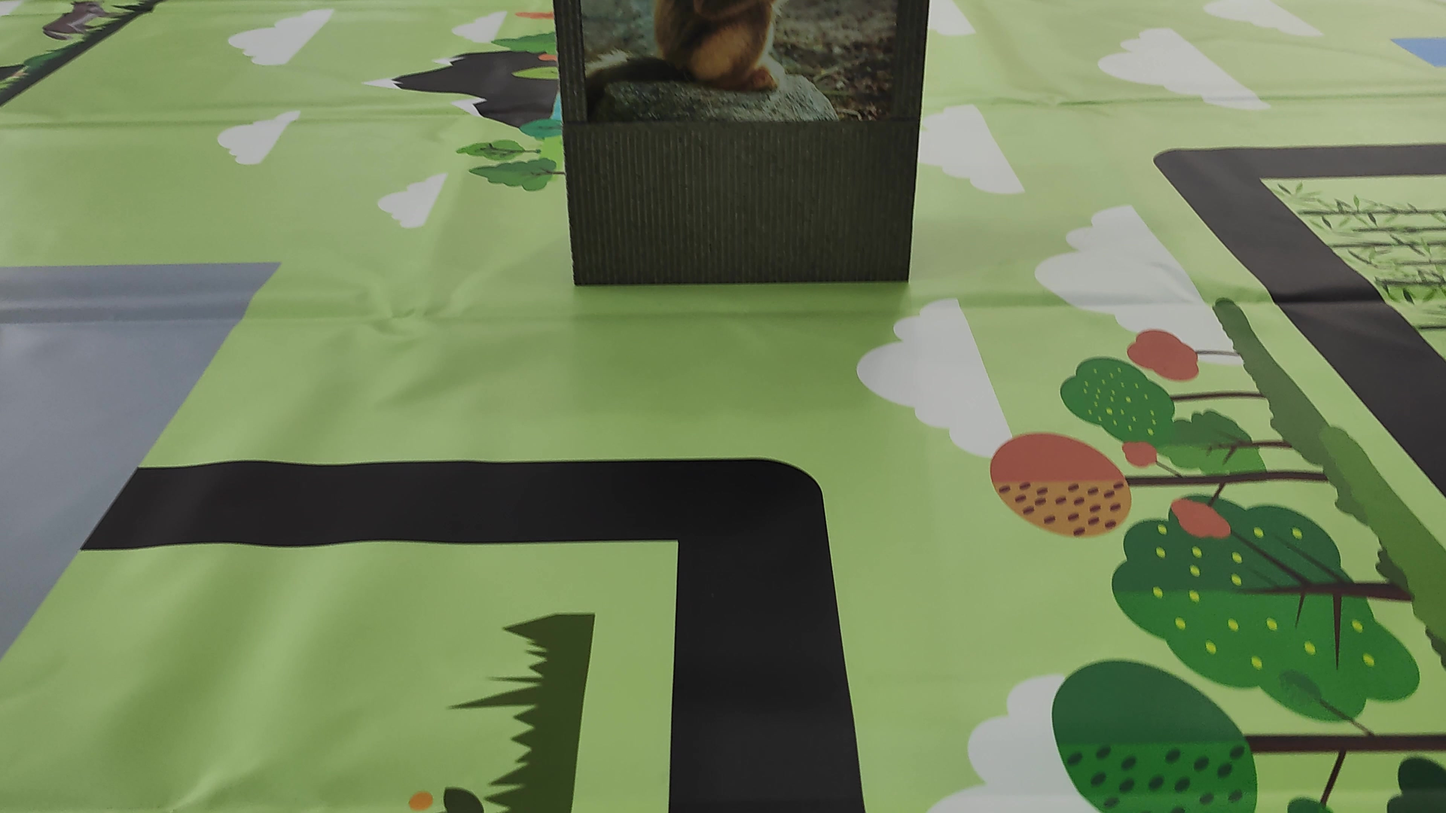monkey: (616, 1, 824, 141)
